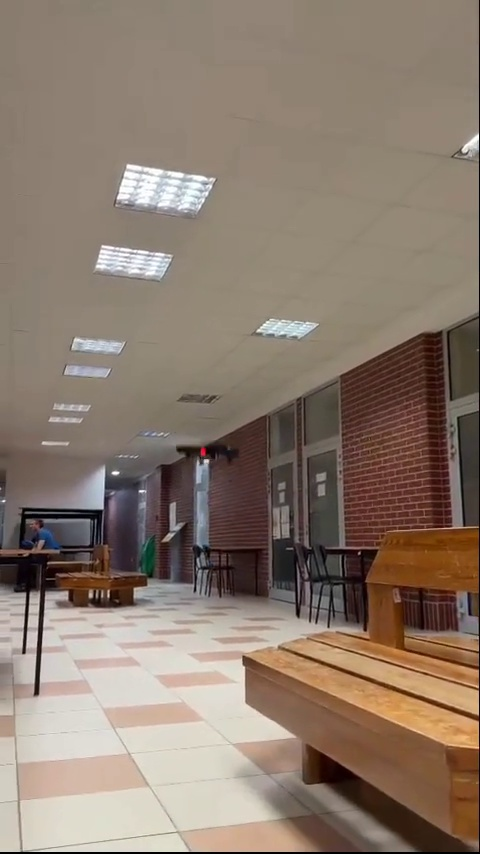drone: (174, 437, 240, 467)
no vest: (14, 515, 62, 571)
